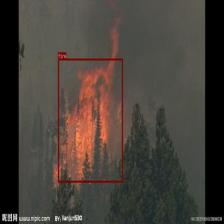fire: (58, 58, 123, 182)
